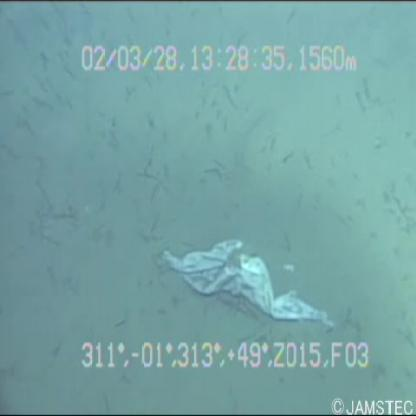Rác: (144, 218, 347, 340)
